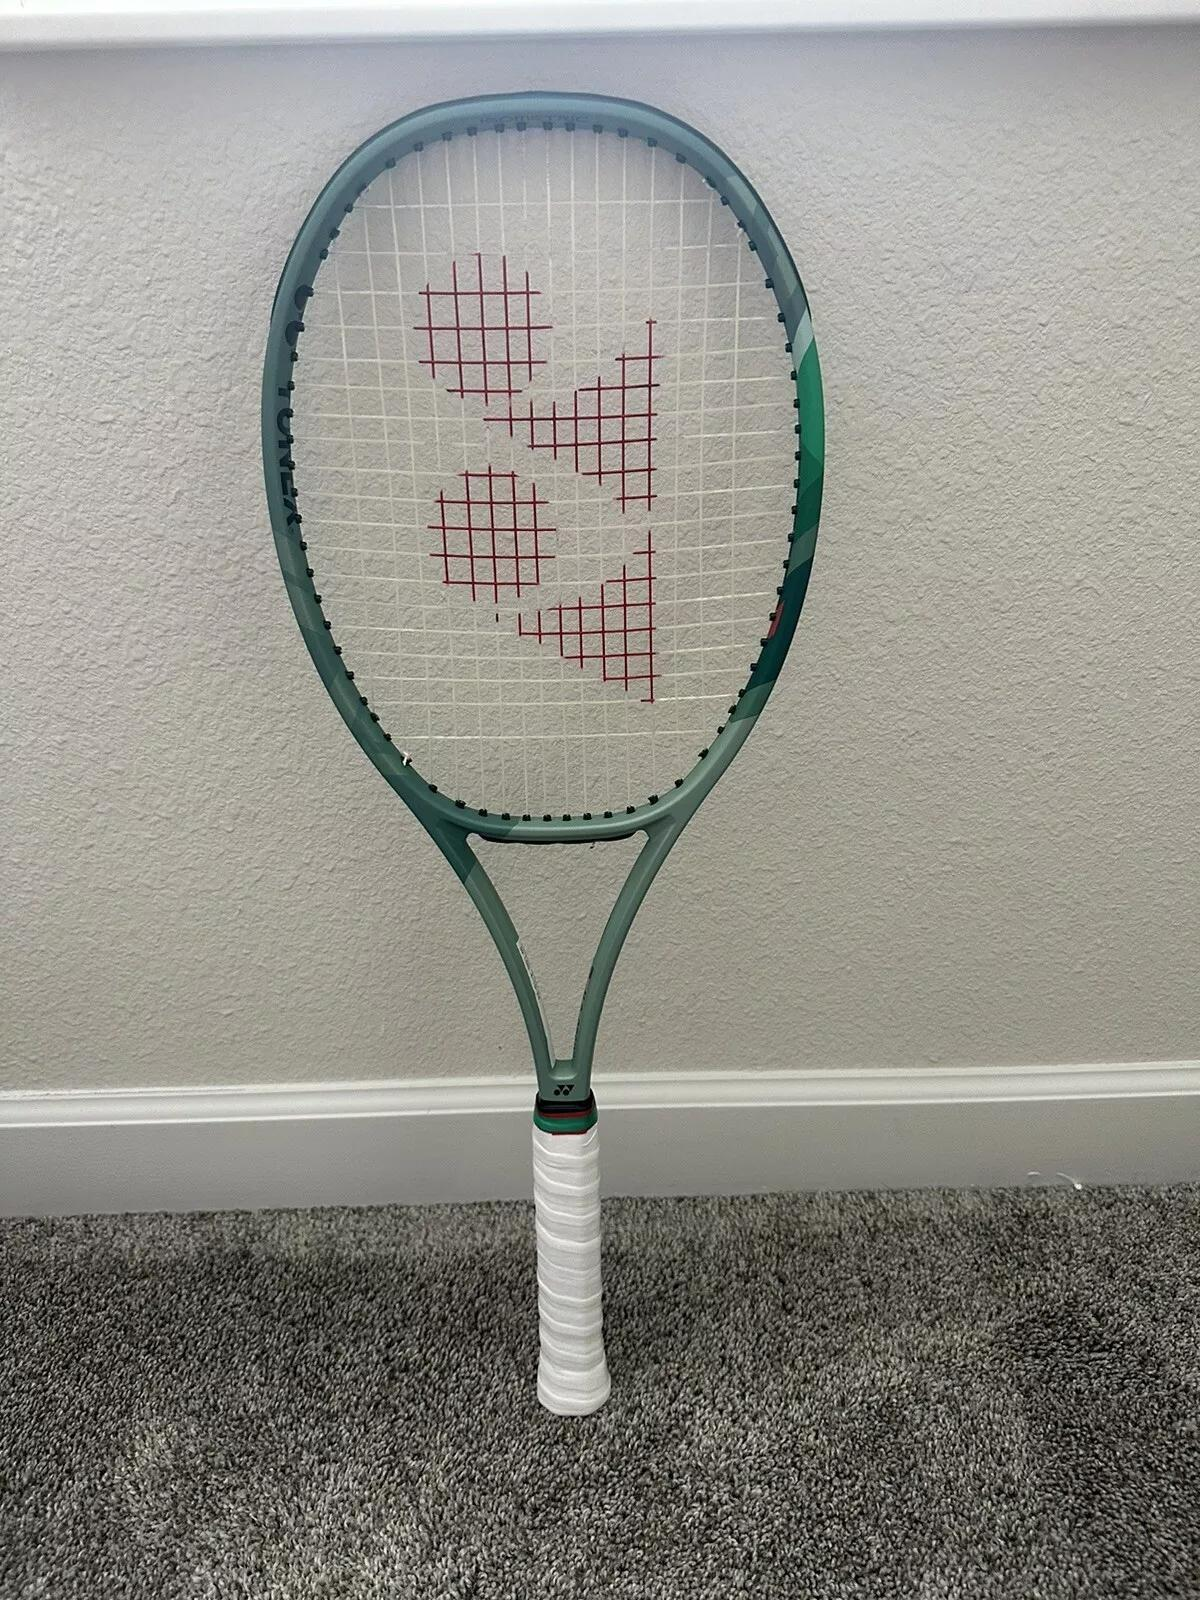Tennis-Racket: (262, 91, 826, 1412)
